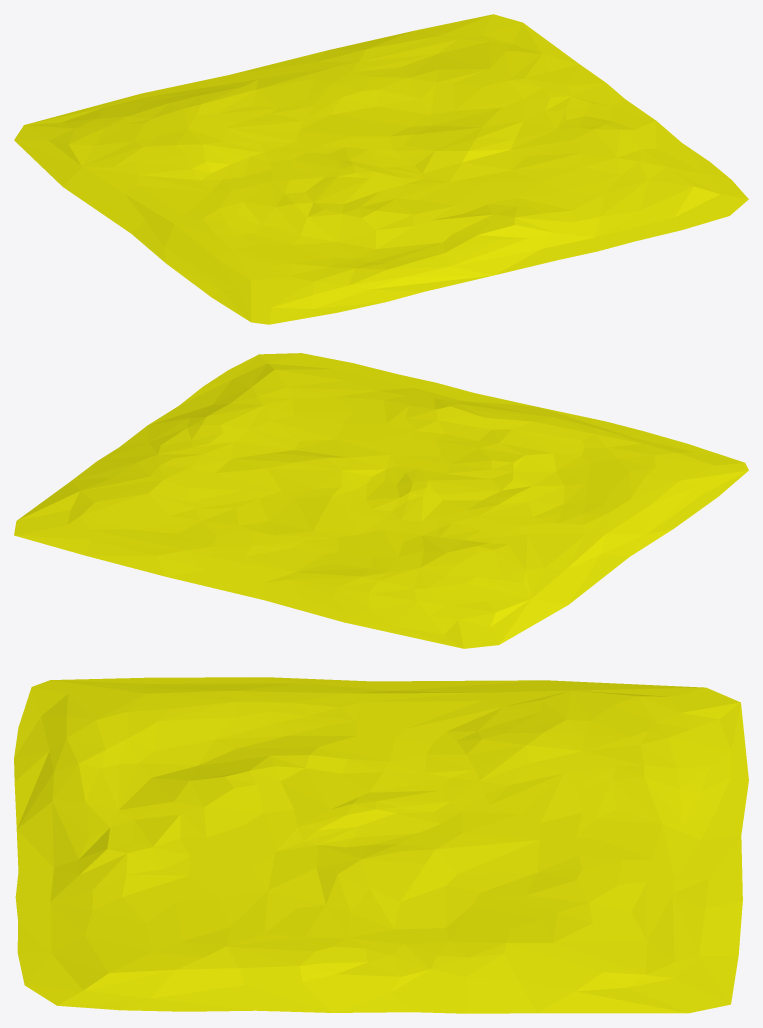
File: SM_Generic_Ground_Flat_01.glb
The picture shows the model from 3 angles, top to bottom: view 1: azimuth 30°, elevation 25°; view 2: azimuth 150°, elevation 25°; view 3: azimuth 270°, elevation 25°; orthographic projection. The views are drawn at different scales.
Visible parts, largest first — view 1: SM_Generic_Ground_Flat_01; view 2: SM_Generic_Ground_Flat_01; view 3: SM_Generic_Ground_Flat_01.
Boxes of the visible parts, box(x1,y1,x2,y2) form: SM_Generic_Ground_Flat_01: box(14, 14, 748, 324); SM_Generic_Ground_Flat_01: box(14, 353, 748, 648); SM_Generic_Ground_Flat_01: box(14, 677, 748, 1013).
Size of the model in its own units: 15.85 by 0.4643 by 14.7.
Materials: 1 (1 with a texture image).
